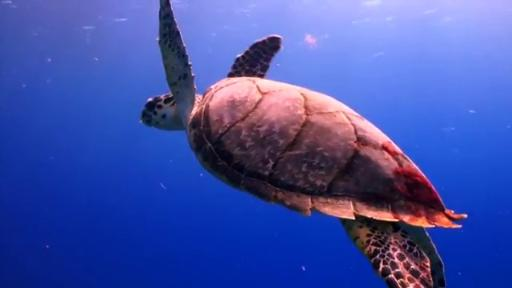Fish: (143, 0, 466, 287)
